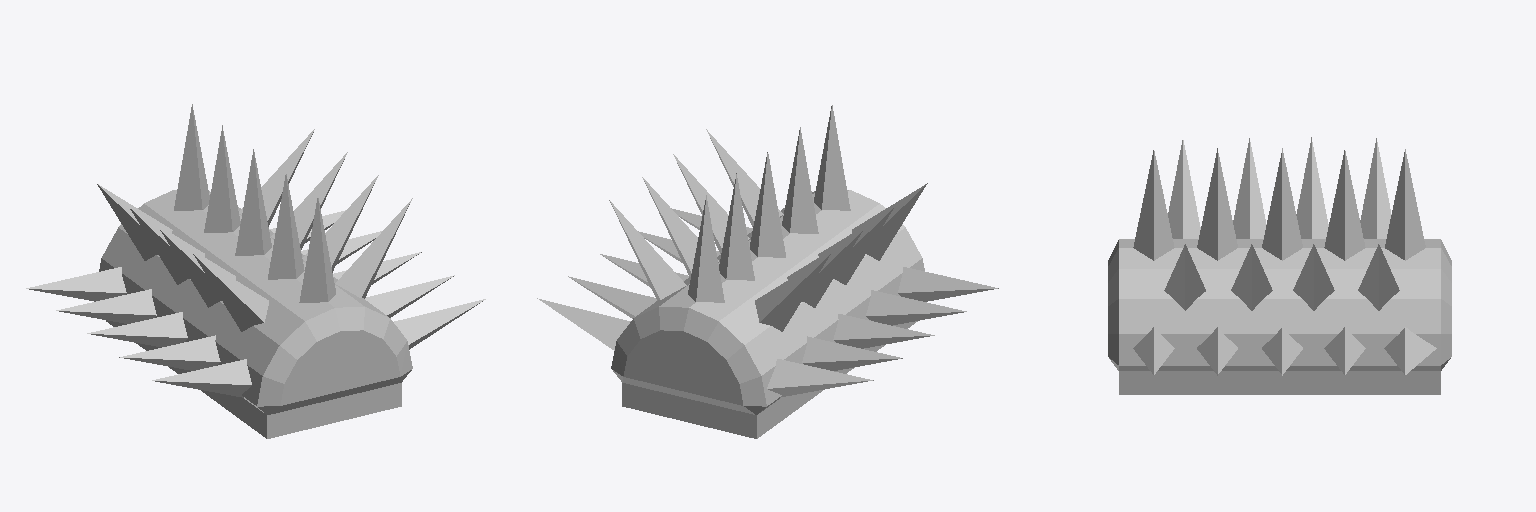
Rendered from cmn_obj_thornsc_SD.obj.
The picture shows the model from 3 angles: view 1: azimuth 30°, elevation 25°; view 2: azimuth 150°, elevation 25°; view 3: azimuth 270°, elevation 25°; orthographic projection.
Parts seen in each view (by area): view 1: polygon1, polygon2, polygon0; view 2: polygon1, polygon2, polygon0; view 3: polygon1, polygon2.
Boxes of the visible parts, x1=… form: polygon1: x1=26, y1=104, x2=485, y2=438; polygon2: x1=99, y1=190, x2=387, y2=412; polygon0: x1=281, y1=330, x2=400, y2=405; polygon1: x1=537, y1=105, x2=998, y2=438; polygon2: x1=636, y1=190, x2=924, y2=412; polygon0: x1=623, y1=330, x2=742, y2=405; polygon1: x1=1108, y1=137, x2=1451, y2=394; polygon2: x1=1119, y1=239, x2=1440, y2=370.
Size of the model in its own units: 22.62 by 13.77 by 19.98.